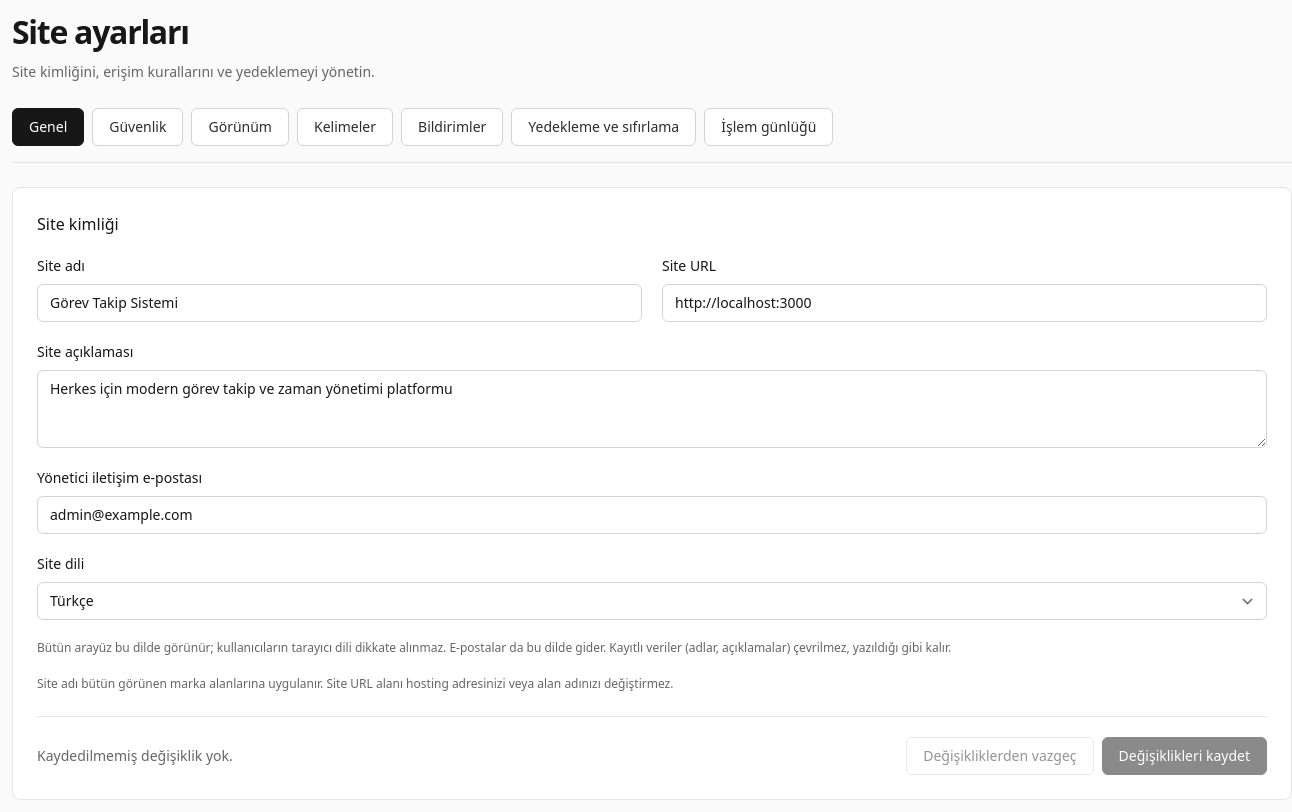
Test case: does not write an unchanged form and preserves a draft during refetch
Expected: the field labelled "Site adı" is shown, x1=37 y1=284 x2=642 y2=322
Submit the form named "Site ayarları formu"
Replace the text in the field labelled "Site adı" with " Taslak adı " at (340, 303), box x1=37 y1=284 x2=642 y2=322
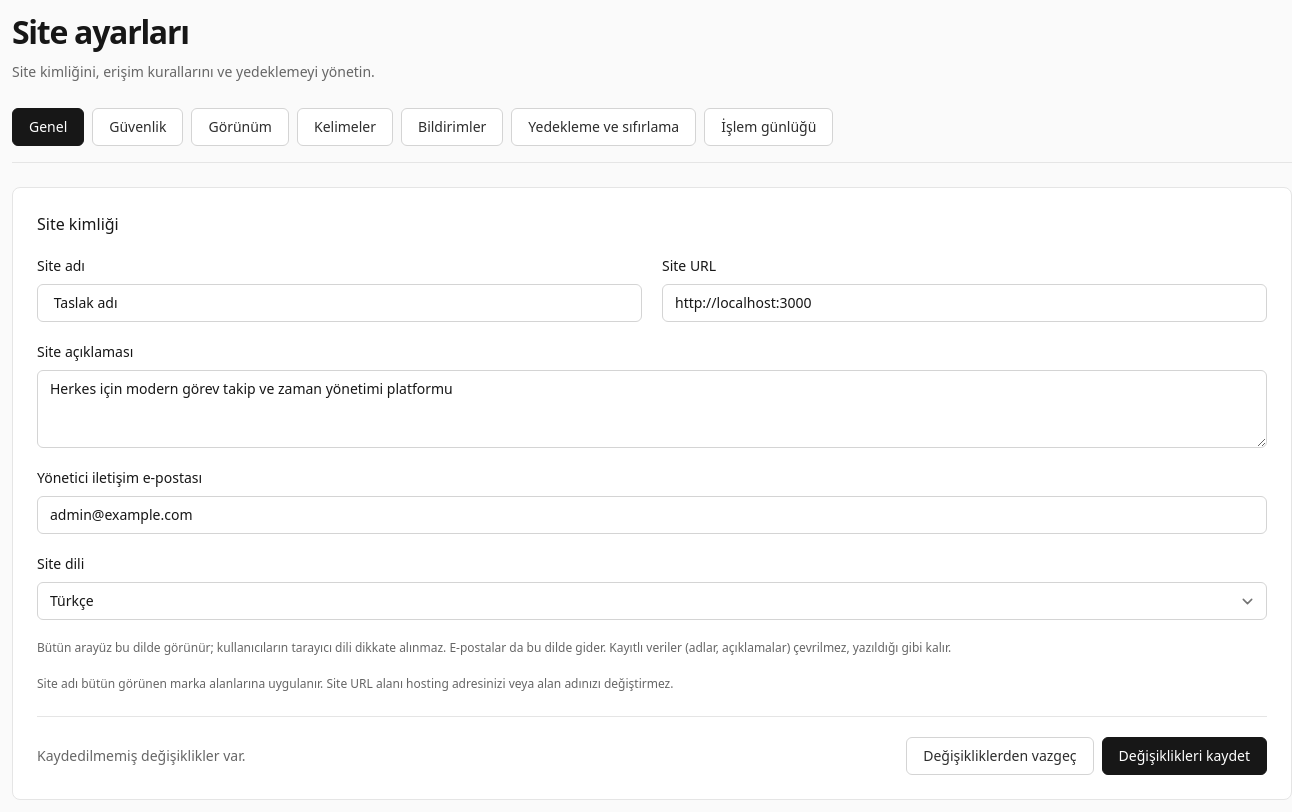
Submit the form named "Site ayarları formu"
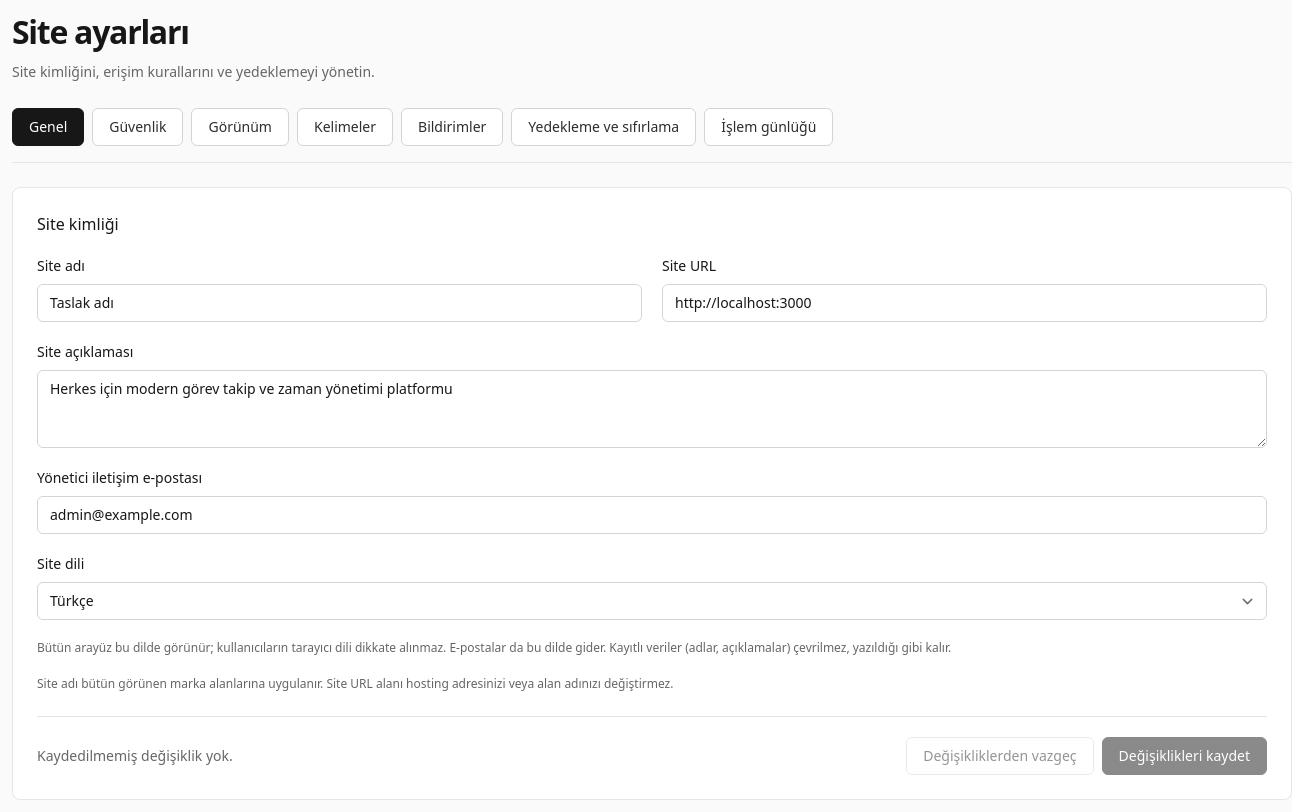
Now the button "Değişiklikleri kaydet" is disabled, box x1=1102 y1=737 x2=1267 y2=775
